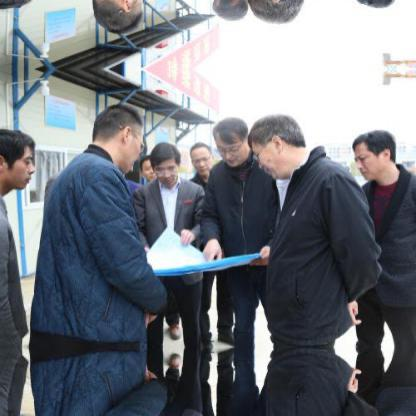head: (250, 108, 309, 176), (88, 104, 146, 170), (1, 124, 40, 196), (351, 124, 398, 180), (88, 0, 147, 34), (212, 113, 251, 164), (249, 0, 309, 29), (150, 142, 179, 186), (211, 0, 251, 24), (187, 140, 211, 174), (350, 0, 398, 13), (0, 0, 40, 13), (138, 154, 154, 184)
